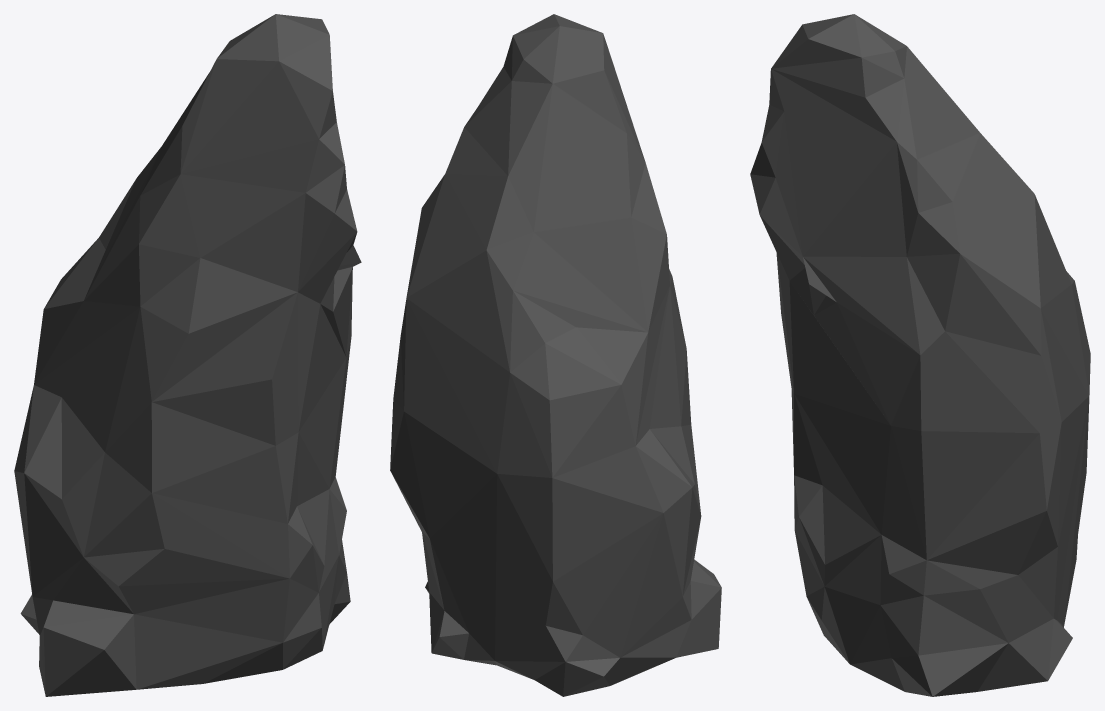
File: stoun_15.fbx
3 views of the same model, side by side, from view 1: azimuth 30°, elevation 25°; view 2: azimuth 150°, elevation 25°; view 3: azimuth 270°, elevation 25° (orthographic). The views are drawn at different scales.
Parts seen in each view (by area): view 1: Object.021; view 2: Object.021; view 3: Object.021.
Boxes of the visible parts, x1,y1,x2,y2 form: Object.021: [14, 14, 361, 696]; Object.021: [390, 14, 721, 696]; Object.021: [750, 14, 1090, 696].
Bounding box in the file's own units: 71.91 × 142 × 67.12.
